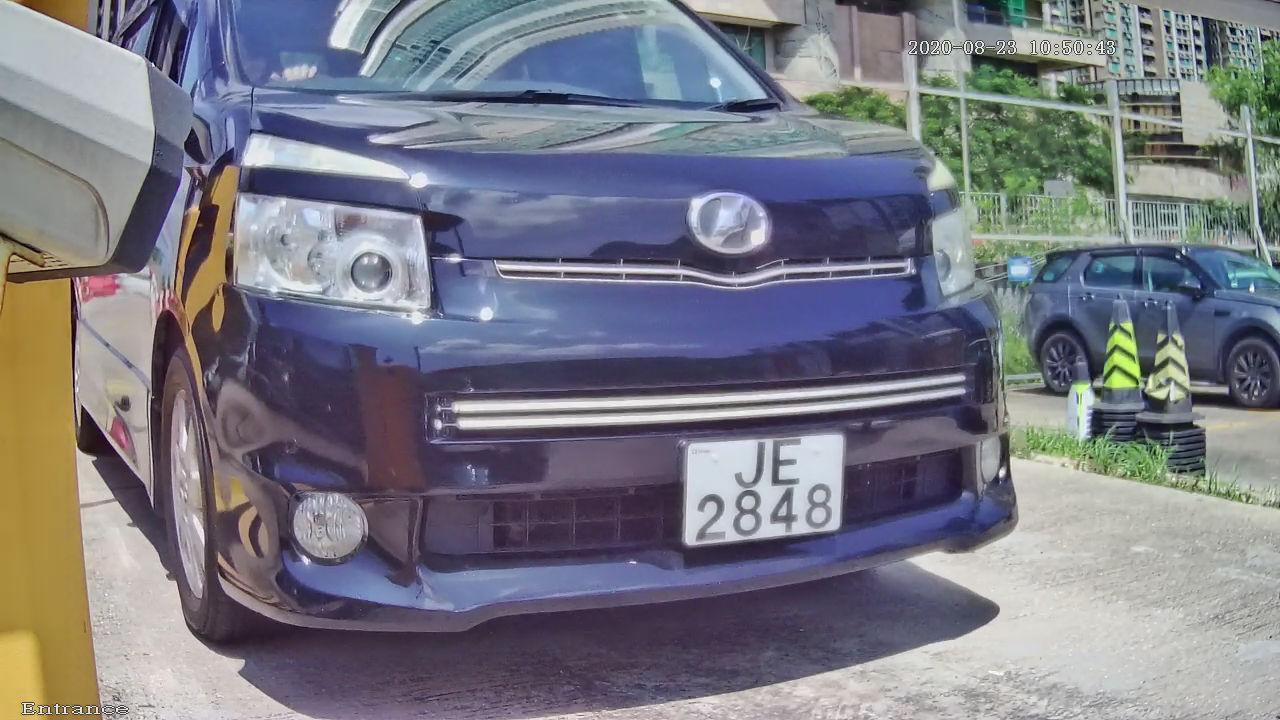License Plate: (658, 418, 858, 557)
